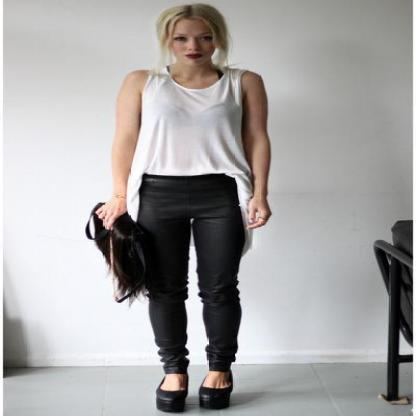bag: (85, 208, 148, 291)
pants: (137, 173, 250, 380)
shirt: (131, 70, 247, 191)
shoe: (157, 391, 231, 413)
